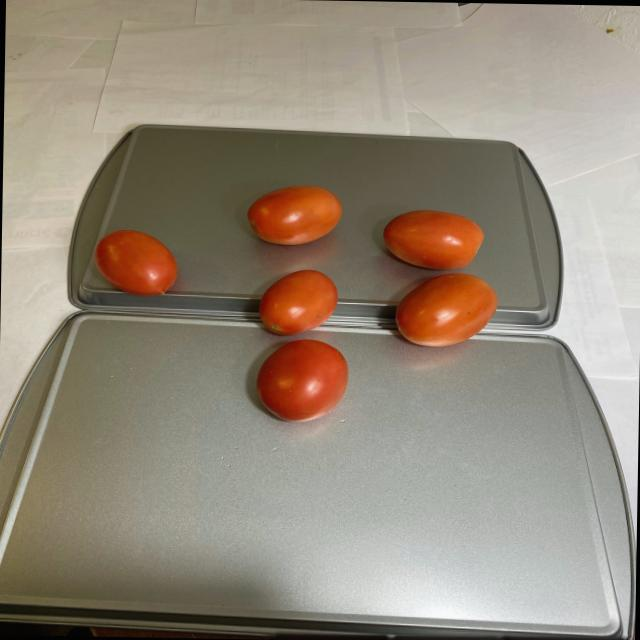tomato: (89, 180, 498, 427)
